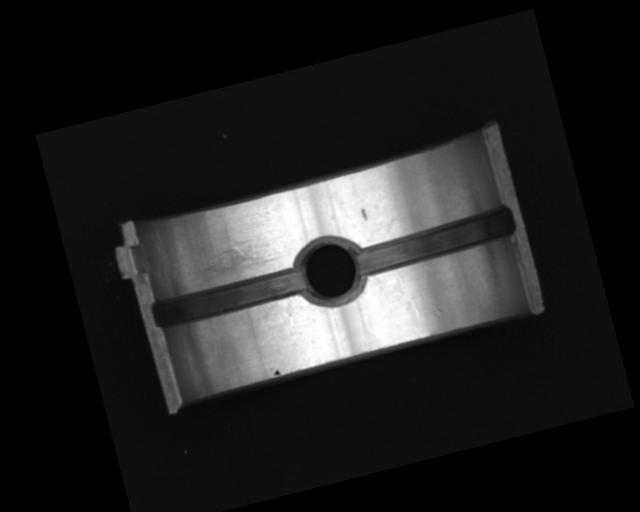blot: (271, 367, 281, 377)
bruise: (358, 207, 368, 222)
gap: (349, 203, 517, 278), (150, 263, 307, 331)
hole: (289, 233, 369, 313)
nick: (395, 266, 421, 320)
scratch: (183, 233, 283, 286)
